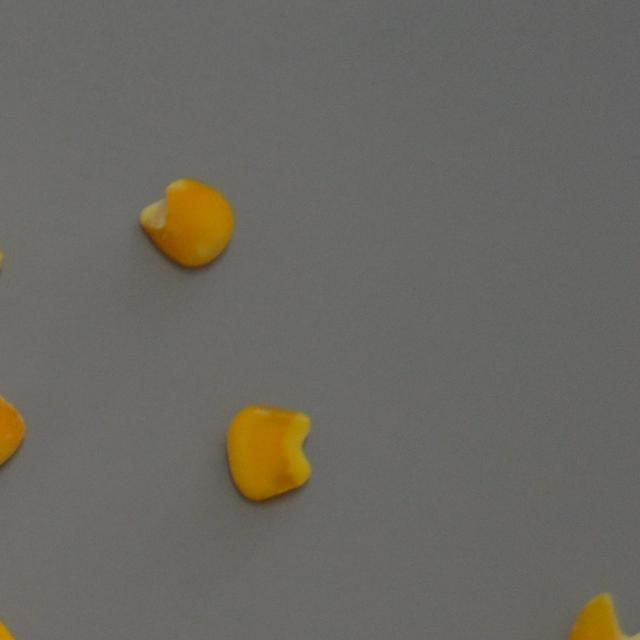dañado: (134, 174, 238, 274), (223, 399, 316, 508)
pelicula: (555, 586, 640, 640), (0, 378, 28, 480)
